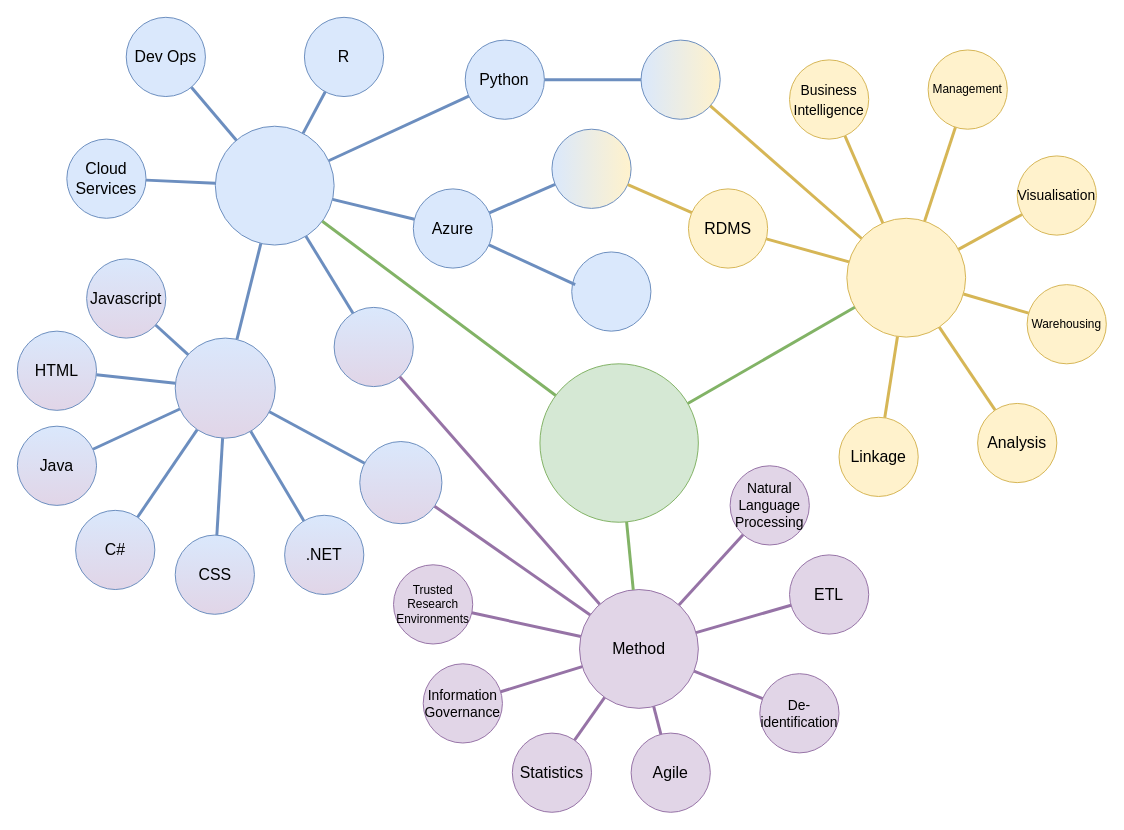
Image size: 1124x830. Some labels were removed from this diagram. The shapes that lost their labels are listed below. From the top down, each one's box as (x1, y1, x2, y2) in pixels, then its label:
(640, 39, 720, 119): Apache Spark
(214, 125, 334, 245): Technical
(551, 128, 631, 208): SQL
(571, 251, 651, 331): Cognitive Services
(846, 217, 966, 337): Data
(333, 306, 413, 387): Machine Learning
(174, 337, 275, 438): Web Development
(539, 363, 698, 522): Data Analytics Team
(359, 441, 442, 524): API development
